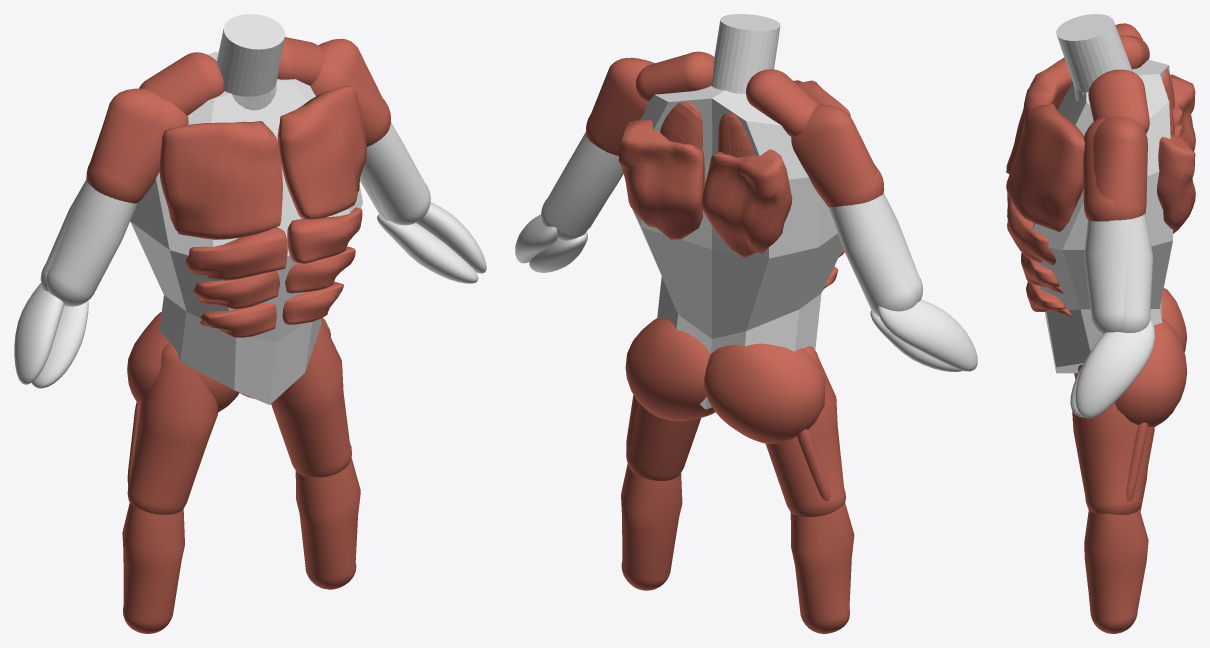
Rendered from muscles.glb.
The picture shows the model from 3 angles, left to right: view 1: azimuth 30°, elevation 25°; view 2: azimuth 150°, elevation 25°; view 3: azimuth 270°, elevation 25°; orthographic projection. The views are drawn at different scales.
Parts seen in each view (by area): view 1: Pectoralis major, Core, Quadriceps femoris, Rectus abdominis, Gastrocnemius, Sphere.001, Biceps brachii, Sphere.003, Neck, Triceps brachii, Sphere.004, Anterior deltoid (+2 smaller); view 2: Core, Gluteus maximus, Latissimus dorsi, Gastrocnemius, Arm, Triceps brachii, Quadriceps femoris, Anterior deltoid, Sphere.003, Neck, Trapezius, Sphere.004 (+2 smaller); view 3: Core, Pectoralis major, Gastrocnemius, Quadriceps femoris, Gluteus maximus, Triceps brachii, Sphere.003, Sphere.001, Latissimus dorsi, Neck, Anterior deltoid, Rectus abdominis (+4 smaller).
Boxes of the visible parts, <box> form: Pectoralis major: <box>159,86,366,239</box>; Core: <box>130,51,362,404</box>; Quadriceps femoris: <box>127,318,351,514</box>; Rectus abdominis: <box>185,207,362,337</box>; Gastrocnemius: <box>122,457,360,633</box>; Sphere.001: <box>46,122,430,306</box>; Biceps brachii: <box>91,59,390,203</box>; Sphere.003: <box>14,202,486,384</box>; Neck: <box>217,14,285,110</box>; Triceps brachii: <box>86,38,383,185</box>; Sphere.004: <box>31,214,478,388</box>; Anterior deltoid: <box>139,37,325,115</box>; Core: <box>632,86,842,409</box>; Gluteus maximus: <box>625,317,825,444</box>; Latissimus dorsi: <box>618,120,792,257</box>; Gastrocnemius: <box>621,464,854,633</box>; Arm: <box>541,137,917,316</box>; Triceps brachii: <box>586,57,879,207</box>; Quadriceps femoris: <box>626,346,845,516</box>; Anterior deltoid: <box>636,51,819,136</box>; Sphere.003: <box>515,214,977,371</box>; Neck: <box>711,14,780,94</box>; Trapezius: <box>660,102,753,188</box>; Sphere.004: <box>529,232,962,371</box>; Core: <box>1033,59,1172,373</box>; Pectoralis major: <box>1006,57,1084,232</box>; Gastrocnemius: <box>1084,468,1148,633</box>; Quadriceps femoris: <box>1072,373,1154,514</box>; Gluteus maximus: <box>1078,288,1187,426</box>; Triceps brachii: <box>1093,23,1147,220</box>; Sphere.003: <box>1075,319,1154,418</box>; Sphere.001: <box>1084,217,1136,335</box>; Latissimus dorsi: <box>1157,74,1195,233</box>; Neck: <box>1056,14,1132,100</box>; Anterior deltoid: <box>1088,35,1149,133</box>; Rectus abdominis: <box>1007,193,1071,317</box>.
Size of the model in its own units: 2.65 by 3.24 by 0.9824.
